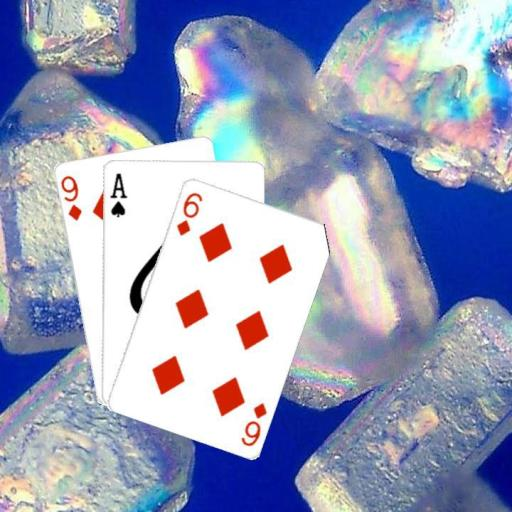6D: (173, 188, 204, 237), (238, 399, 268, 447)
9D: (58, 172, 83, 222)
AS: (106, 170, 128, 219)
